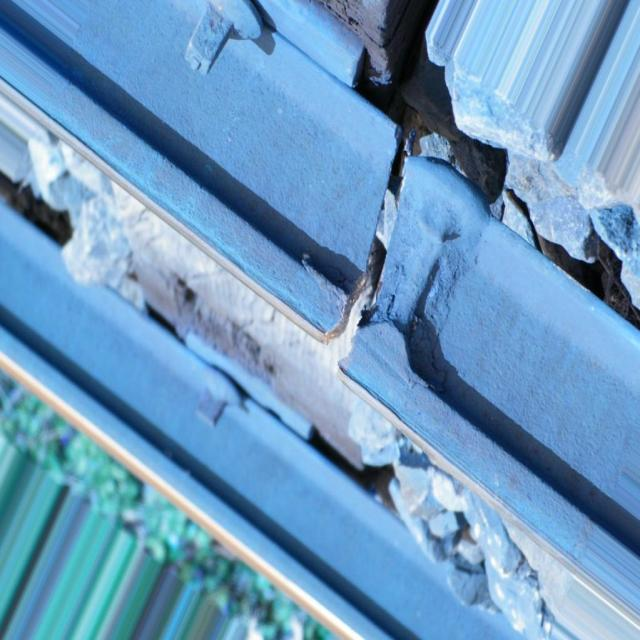crack: (319, 109, 415, 370)
